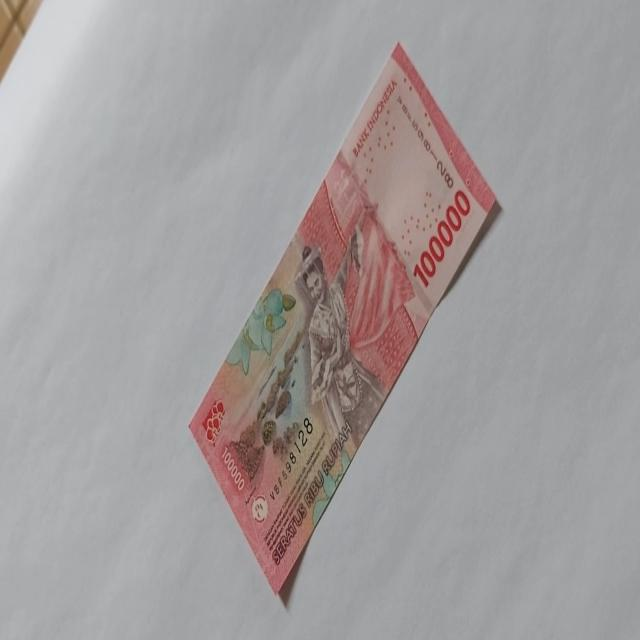seratus ribu rupiah: (187, 41, 499, 596), (292, 226, 368, 447)
